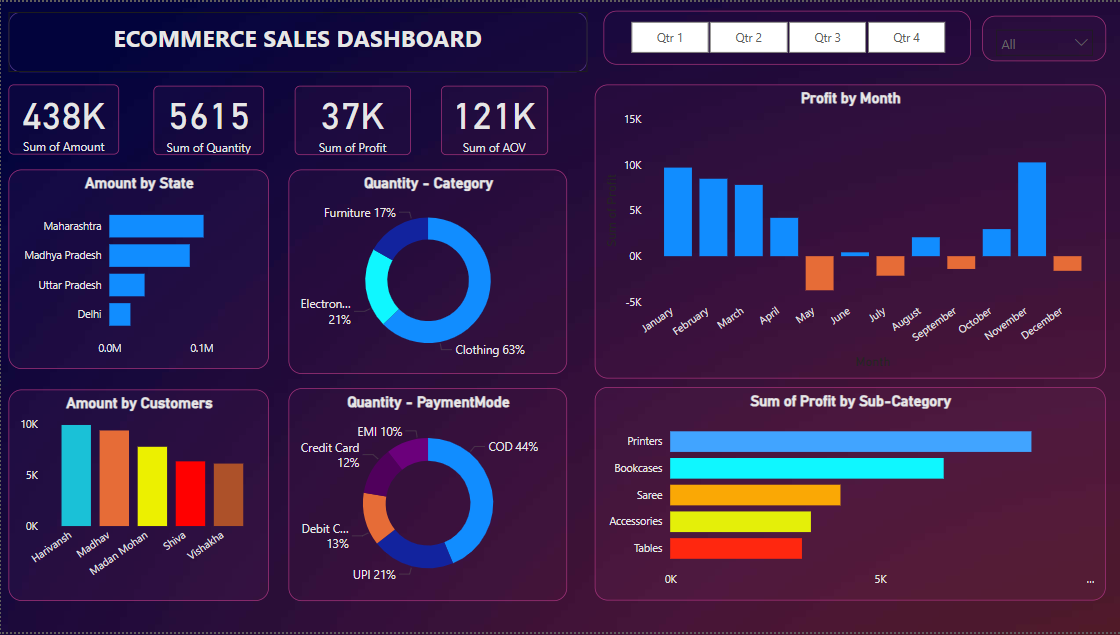

The page's visual inventory and layout, read from the dashboard file:
{"tool":"powerbi","page":{"name":"Page 1","canvas":[1280,720],"ordinal":0},"visuals":[{"type":"textbox","box":[8.2,11,661.4,68.6],"z":0},{"type":"columnChart","title":"Profit by Month","fields":{"Category":["Orders.Order Date.Variation.Date Hierarchy.Month"],"Y":["Details.Profit"]},"box":[679.1,94.2,583.7,336],"z":1000},{"type":"clusteredBarChart","fields":{"Category":["Details.Sub-Category"],"Y":["Details.Profit"]},"box":[679.1,440.7,583.7,244.2],"z":2000},{"type":"donutChart","title":"Quantity - Category","fields":{"Category":["Details.Category"],"Y":["Details.Quantity"]},"box":[327.9,191.9,318.6,233.7],"z":3000},{"type":"donutChart","title":"Quantity - PaymentMode","fields":{"Y":["Details.Quantity"],"Category":["Details.PaymentMode"]},"box":[327.9,441.9,318.6,243],"z":4000},{"type":"card","fields":{"Values":["Details.Amount"]},"box":[8.1,94.2,126.7,80.2],"z":5000},{"type":"card","fields":{"Values":["Details.Quantity"]},"box":[174.4,95.3,126.7,79.1],"z":6000},{"type":"card","fields":{"Values":["Details.Profit"]},"box":[336,95.3,132.6,79.1],"z":7000},{"type":"card","fields":{"Values":["Details.AOV"]},"box":[502.3,95.3,122.1,79.1],"z":8000},{"type":"barChart","title":"Amount by State","fields":{"Category":["Orders.State"],"Y":["Details.Amount"]},"box":[8.1,191.9,297.7,227.9],"z":9000},{"type":"columnChart","title":"Amount by Customers","fields":{"Category":["Orders.CustomerName"],"Y":["Details.Amount"]},"box":[8.1,443,297.7,241.9],"z":10000},{"type":"slicer","fields":{"Values":["Orders.Order Date.Variation.Date Hierarchy.Quarter"]},"box":[688.6,10,407.1,61.4],"z":11000},{"type":"slicer","fields":{"Values":["Orders.State"]},"box":[1105.7,15.7,157.1,64.3],"z":12000}]}

Visuals, with their boxes in screenshot pixels (x1, y1, x2, y2), scaled from the page's 1280x720 canvas onto the 1120x635 screenshot:
textbox: [7,10,586,70]
"Profit by Month" columnChart: [594,83,1105,379]
clusteredBarChart - Details.Sub-Category x Details.Profit: [594,389,1105,604]
"Quantity - Category" donutChart: [287,169,566,375]
"Quantity - PaymentMode" donutChart: [287,390,566,604]
card - Details.Amount: [7,83,118,154]
card - Details.Quantity: [153,84,263,154]
card - Details.Profit: [294,84,410,154]
card - Details.AOV: [440,84,546,154]
"Amount by State" barChart: [7,169,268,370]
"Amount by Customers" columnChart: [7,391,268,604]
slicer - Orders.Order Date.Variation.Date Hierarchy.Quarter: [603,9,959,63]
slicer - Orders.State: [967,14,1105,71]
